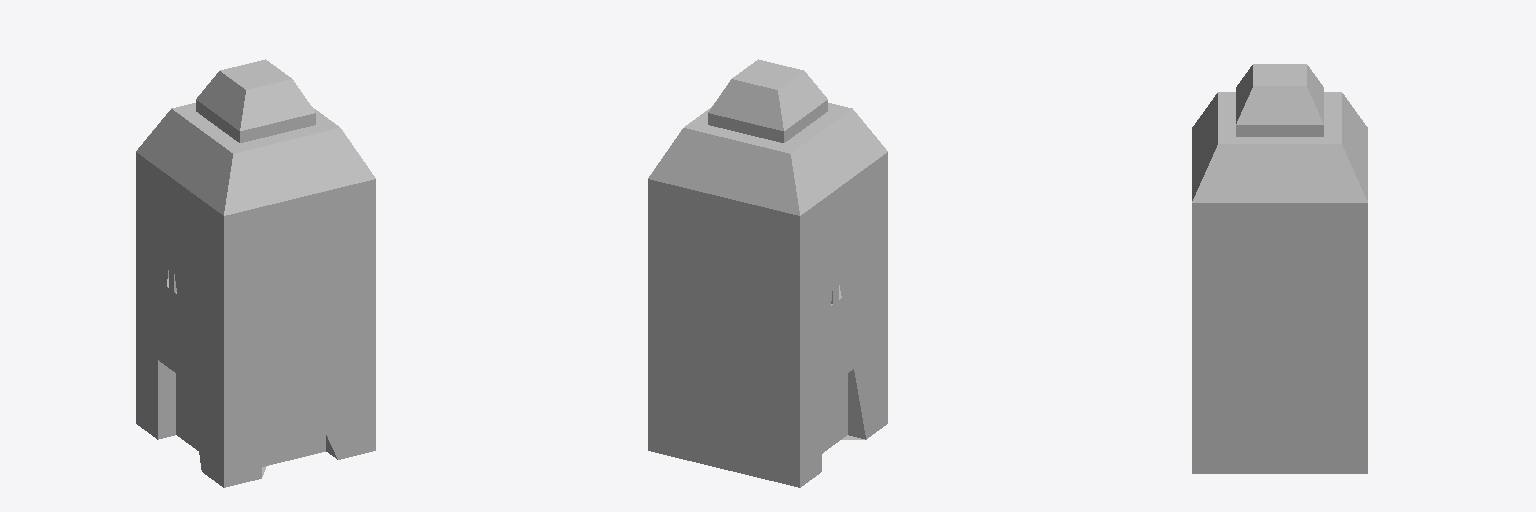
File: building1.obj
3 views of the same model, side by side, from view 1: azimuth 30°, elevation 25°; view 2: azimuth 150°, elevation 25°; view 3: azimuth 270°, elevation 25° (orthographic).
Parts seen in each view (by area): view 1: Cube; view 2: Cube; view 3: Cube.
Boxes of the visible parts, x1=… form: Cube: x1=136, y1=59, x2=375, y2=487; Cube: x1=648, y1=59, x2=887, y2=487; Cube: x1=1192, y1=64, x2=1367, y2=473.
Size of the model in its own units: 2 by 4.54 by 2.